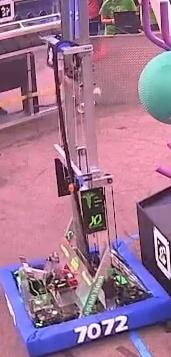blue_number: (71, 312, 132, 347)
